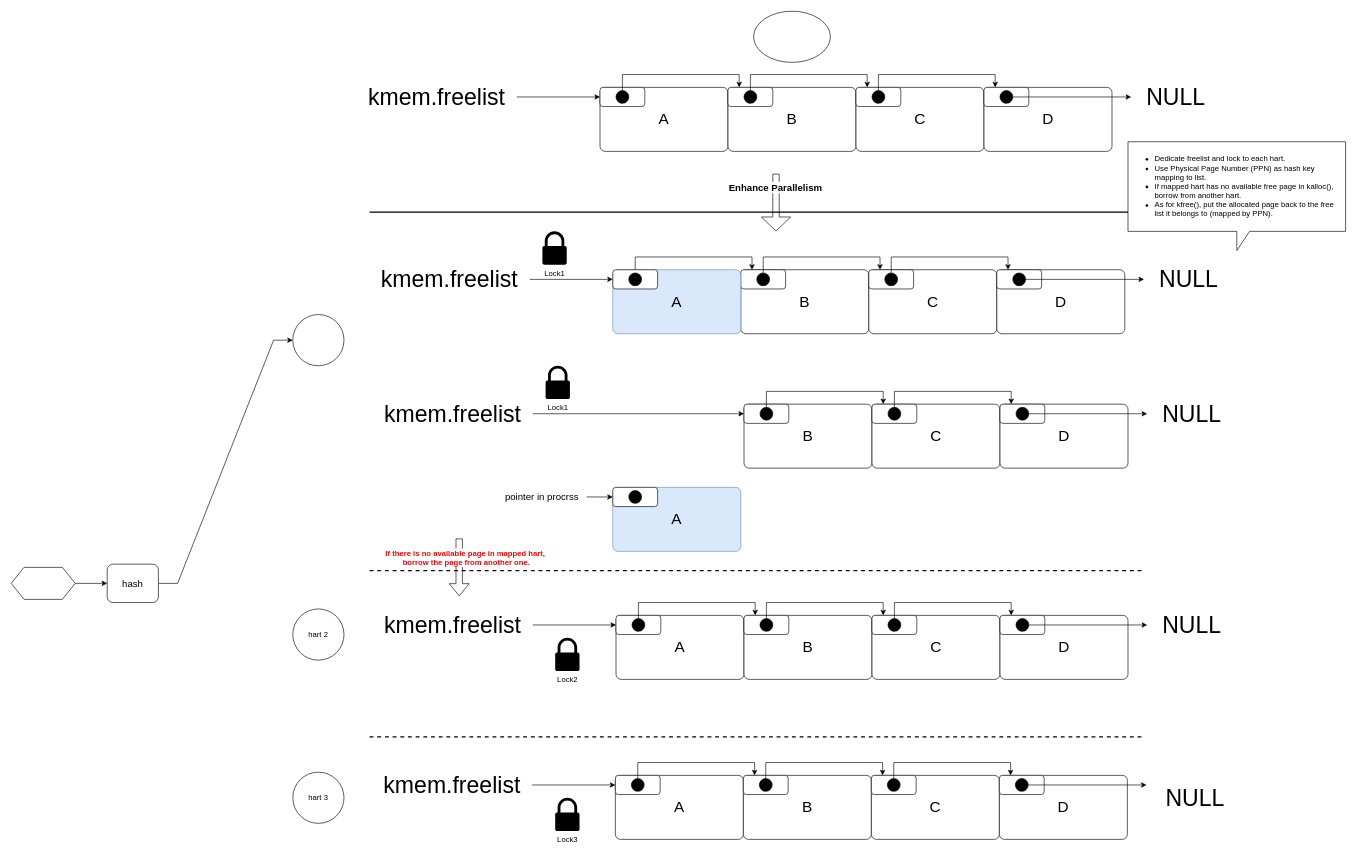
This 1357x856 diagram has some shape labels left out. The shapes that lost their labels are listed below. From the top down, each one's centre as x and y in pixels, then its label:
At [791,36]: "All harts share one free list with one lock".
At [318,340]: "hart 1".
At [43,583]: "cpuid".
